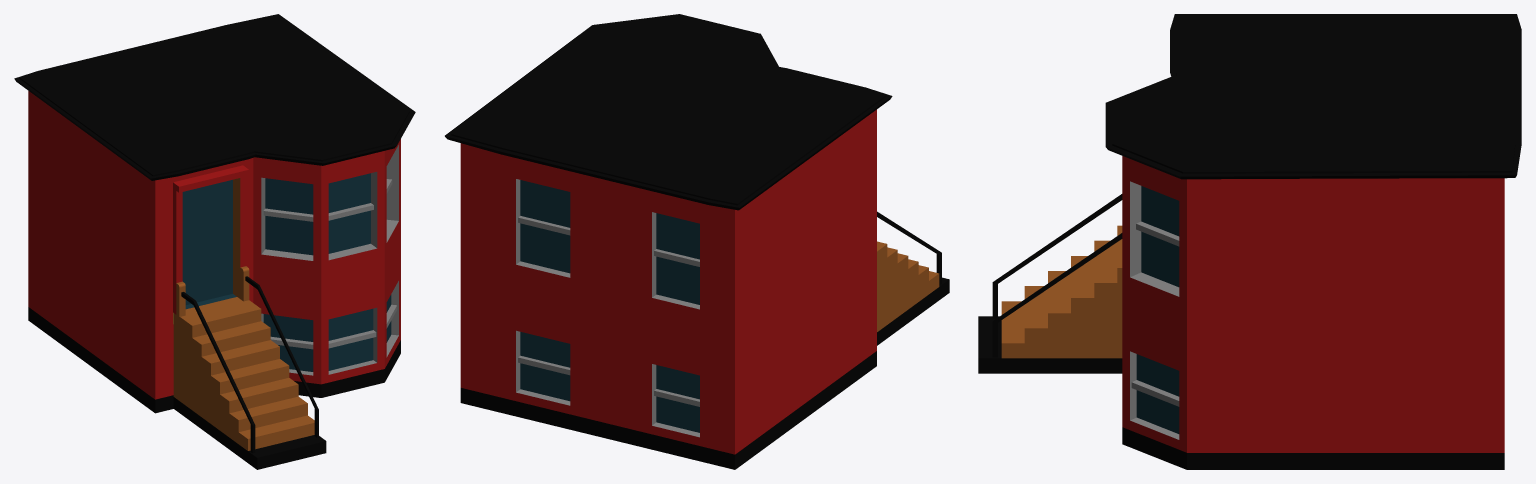
File: 1 floor.fbx
3 renders of one model, left to right at view 1: azimuth 30°, elevation 25°; view 2: azimuth 150°, elevation 25°; view 3: azimuth 270°, elevation 25°, orthographic. The views are drawn at different scales.
Parts seen in each view (by area): view 1: Cube.018; view 2: Cube.018; view 3: Cube.018.
Part boxes in pixels (x1,y1,x2,y2): Cube.018: (14,14,415,469); Cube.018: (445,14,949,469); Cube.018: (978,14,1521,469).
Size of the model in its own units: 452 by 392 by 637.
